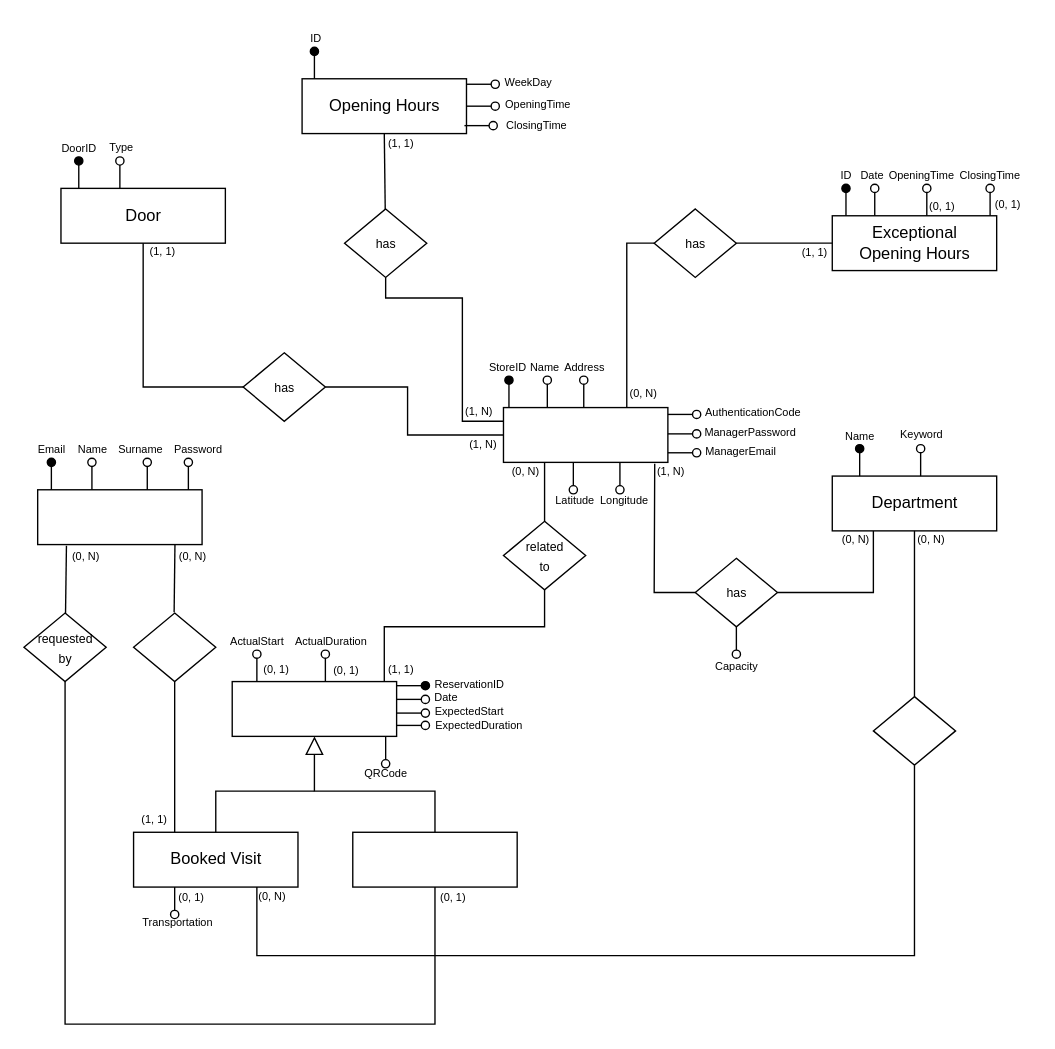
Image size: 1055x1049. Some labels were removed from this diagram. The box of each missing label's shape, as (x1, y1, x2, y2) in pixels:
booked by: (132, 612, 216, 682)
Customer: (36, 488, 202, 545)
involves: (872, 695, 956, 765)
Requested Visit: (351, 831, 517, 887)
Store: (502, 406, 668, 462)
Visit: (231, 680, 397, 736)
